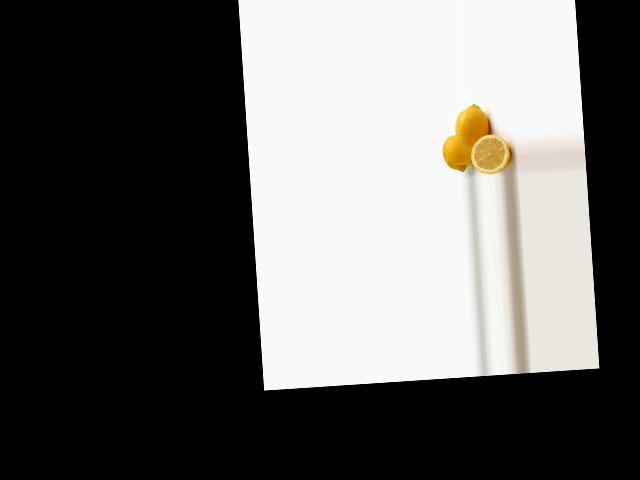lemon: (439, 130, 473, 175)
